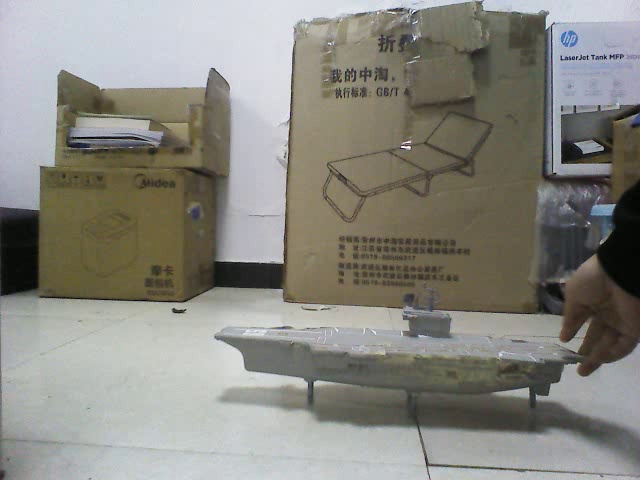aircraft_carrier: (215, 291, 587, 389)
